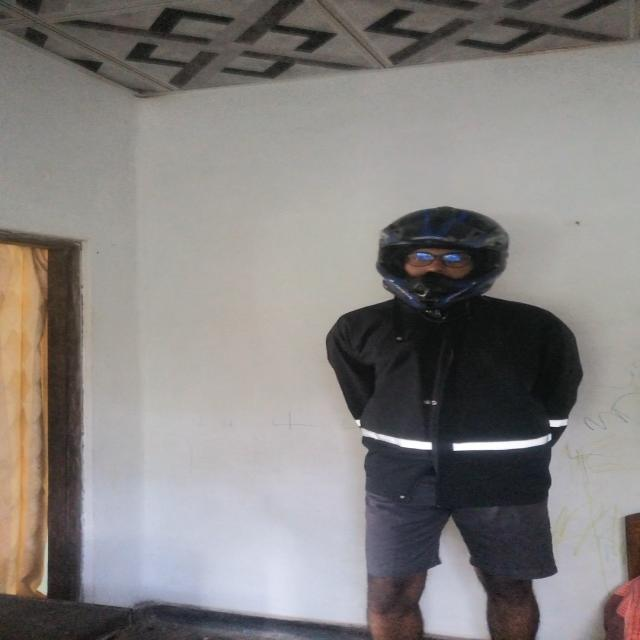Helmet_Wearer: (360, 208, 519, 312)
Jacket_Wearer: (327, 288, 584, 512)
Person: (332, 209, 584, 640)
